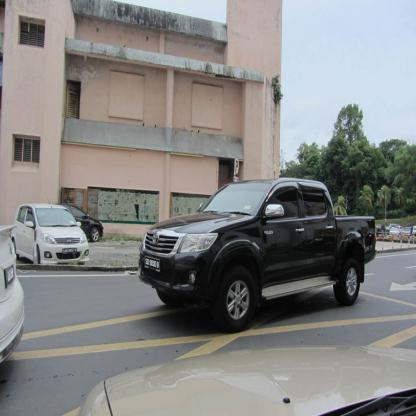Car: (11, 199, 87, 264), (0, 224, 26, 364), (57, 202, 103, 244), (376, 222, 415, 241)
Truck: (138, 177, 376, 334)
